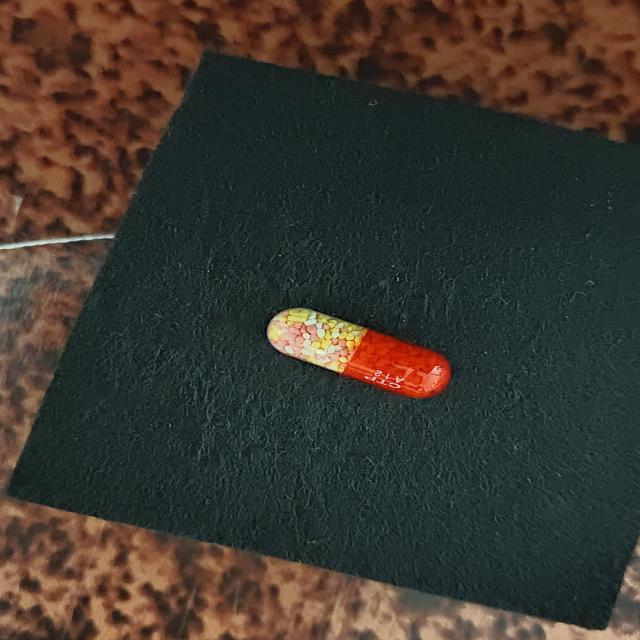Intact Capsule: (266, 308, 451, 398)
